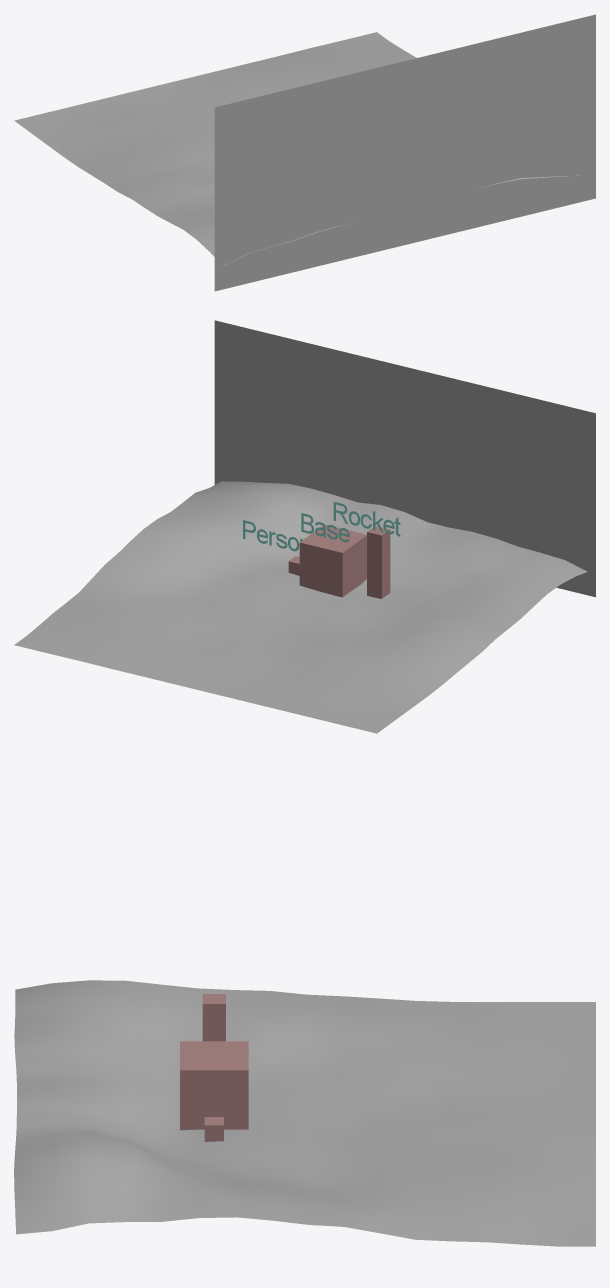
The picture shows the model from 3 angles, top to bottom: view 1: azimuth 30°, elevation 25°; view 2: azimuth 150°, elevation 25°; view 3: azimuth 270°, elevation 25°; orthographic projection. The views are drawn at different scales.
Visible parts, largest first — view 1: pPlane2, pPlane1; view 2: pPlane1, pPlane2, Base1, Rocket1, planarTrimmedSurface2; view 3: pPlane1, Base1, Rocket1.
Boxes of the visible parts, left/top/right/bottom form: pPlane2: left=214, top=14, right=595, bottom=291; pPlane1: left=14, top=32, right=580, bottom=265; pPlane1: left=14, top=481, right=587, bottom=733; pPlane2: left=214, top=320, right=595, bottom=597; Base1: left=299, top=524, right=366, bottom=597; Rocket1: left=367, top=526, right=390, bottom=598; planarTrimmedSurface2: left=333, top=502, right=400, bottom=536; pPlane1: left=14, top=980, right=595, bottom=1246; Base1: left=180, top=1041, right=248, bottom=1130; Rocket1: left=202, top=994, right=225, bottom=1041.
Bounding box in the file's own units: 311 × 143 × 297.
